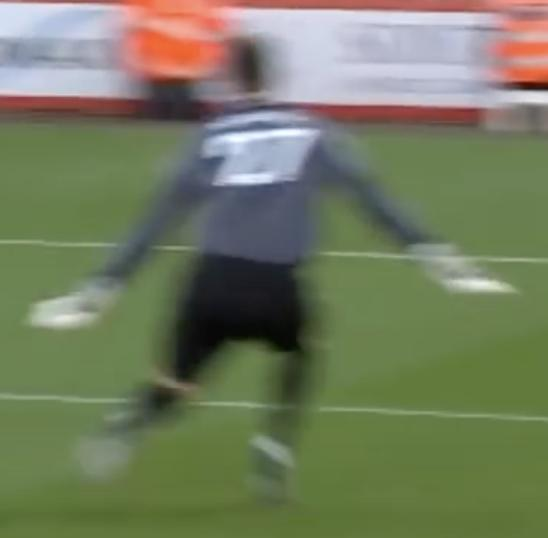goalkeeper: (19, 28, 548, 538)
